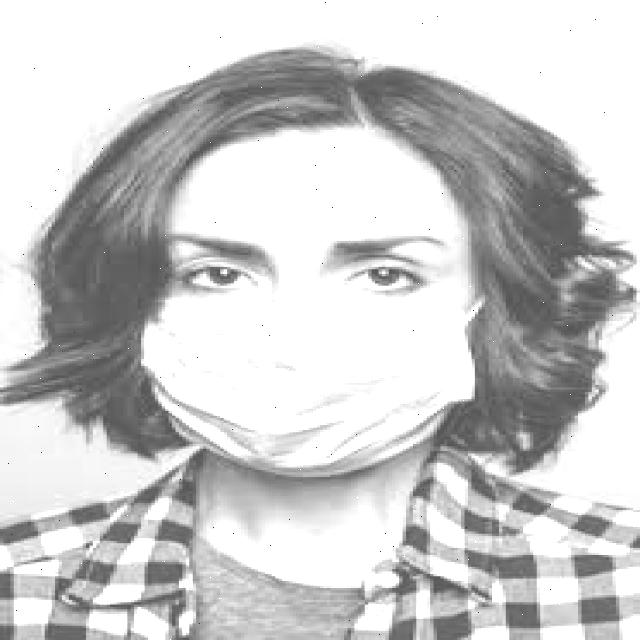fake: (108, 282, 531, 514)
real: (161, 132, 476, 507)
